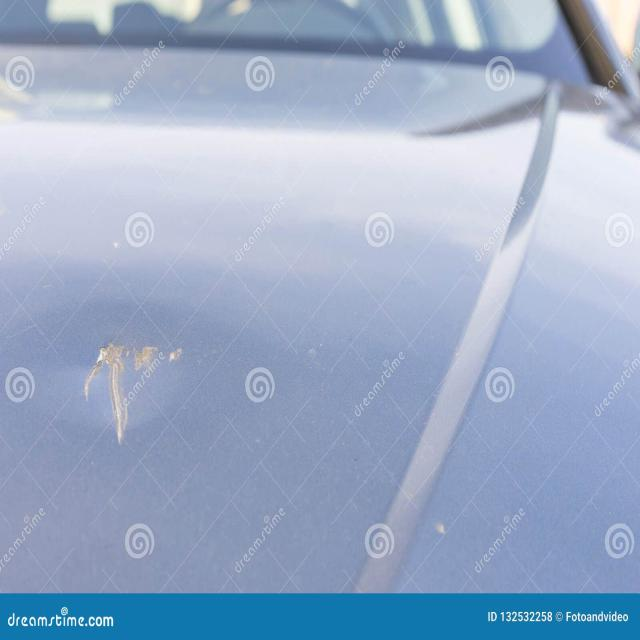dent: (48, 288, 188, 435)
scratch: (83, 344, 185, 452)
